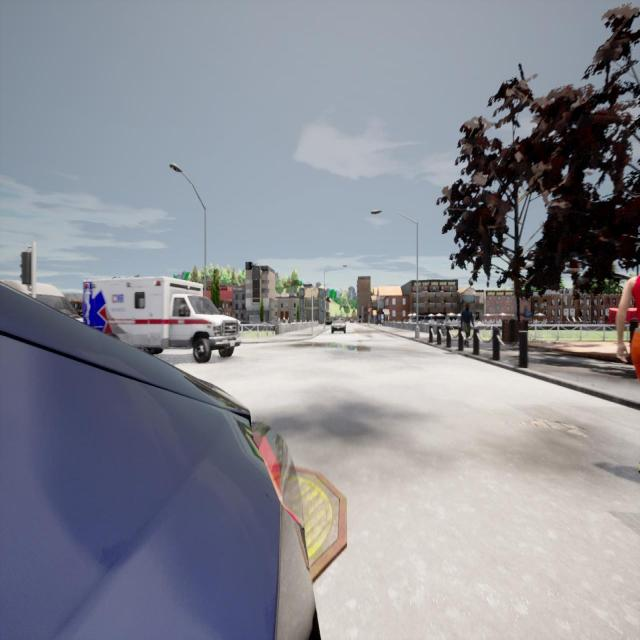Pedestrian: (607, 256, 640, 392), (460, 301, 476, 347)
Vehicle: (0, 284, 315, 638), (81, 277, 242, 362), (331, 317, 346, 334), (350, 319, 354, 323)
traffic_light: (20, 252, 31, 283), (311, 295, 315, 306), (367, 308, 370, 314)
